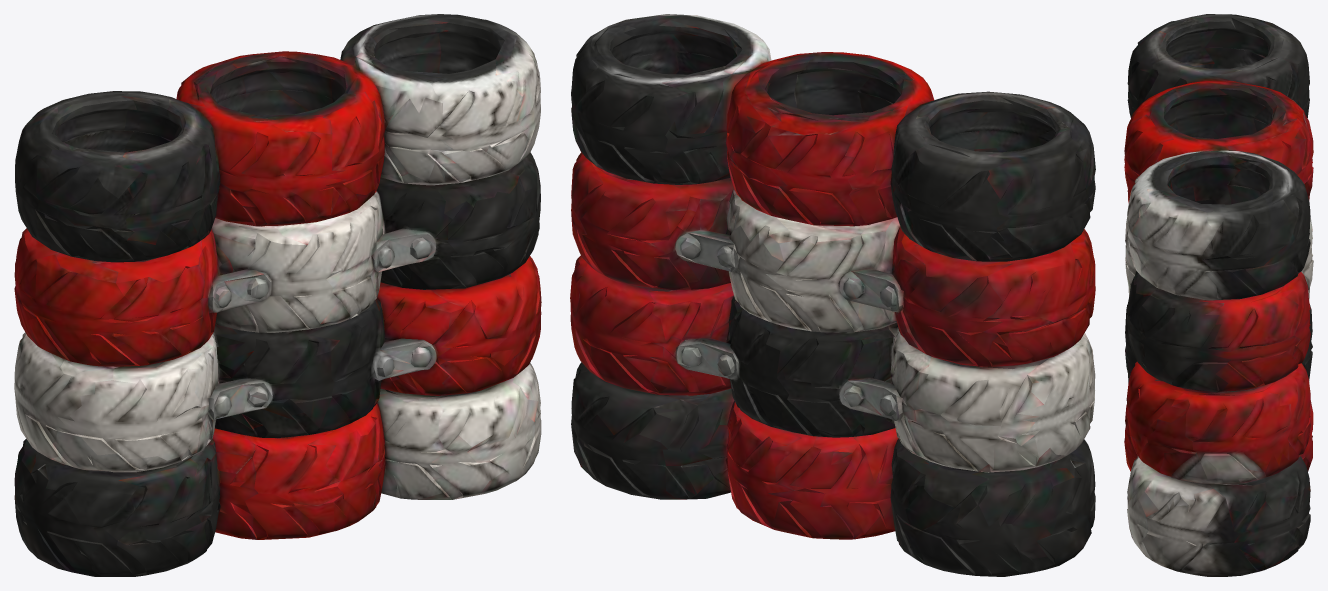
File: prop_tyres.glb
3 renders of one model, left to right at view 1: azimuth 30°, elevation 25°; view 2: azimuth 150°, elevation 25°; view 3: azimuth 270°, elevation 25°, orthographic. The views are drawn at different scales.
Size of the model in its own units: 1.9 by 1.54 by 0.7171.
1 material, 1 textured.
